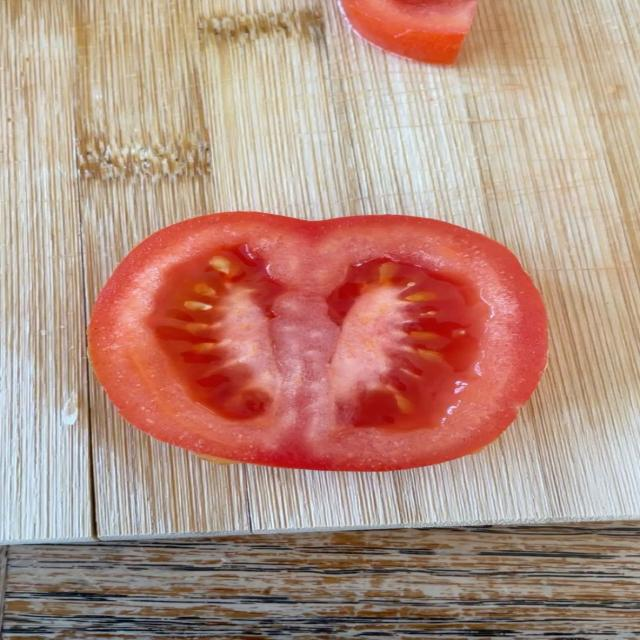sliced tomatoe: (89, 213, 546, 470), (341, 0, 477, 64)
